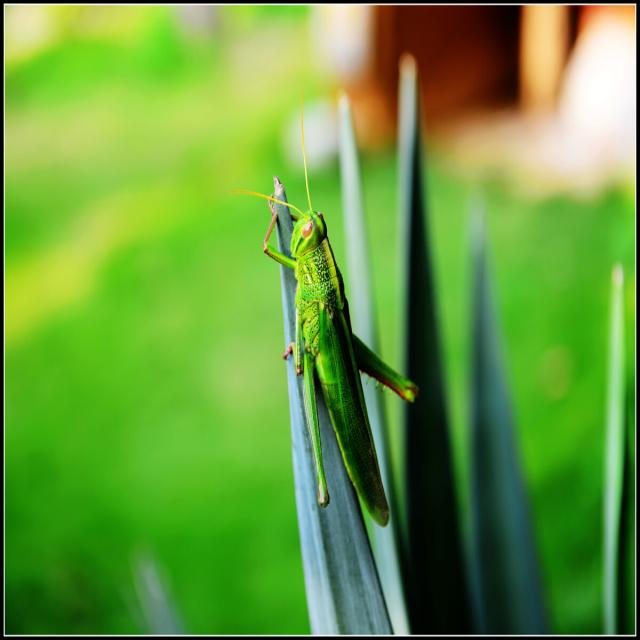ZhaMeng: (254, 100, 411, 538)
